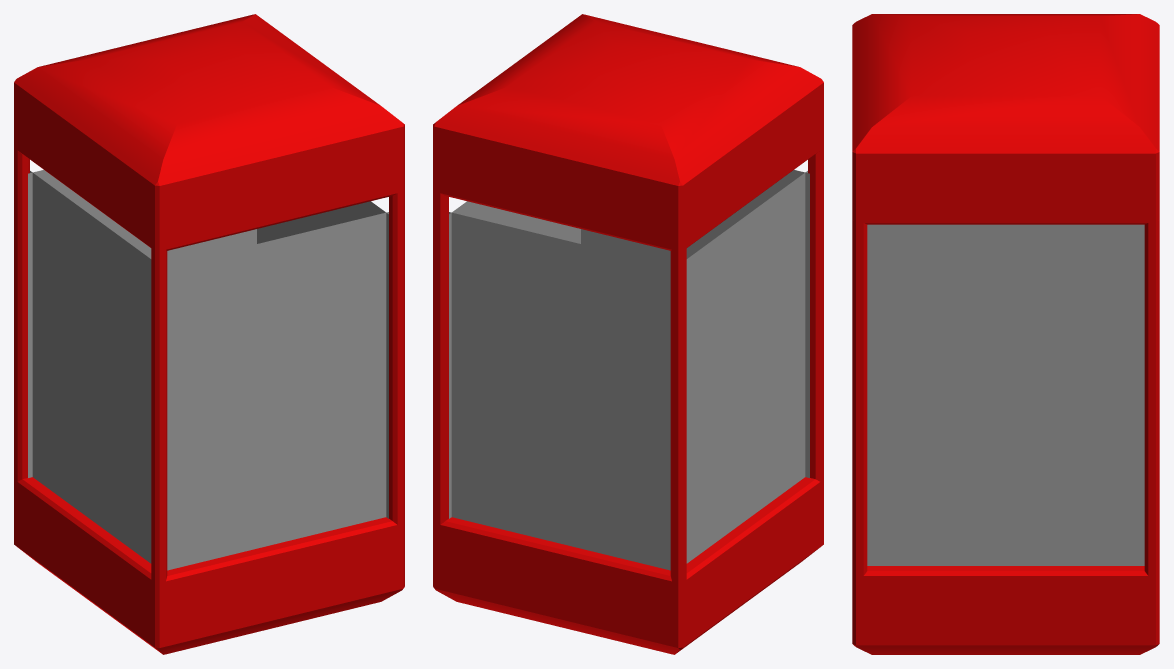
File: CubeSuleRounded.fbx
3 renders of one model, left to right at view 1: azimuth 30°, elevation 25°; view 2: azimuth 150°, elevation 25°; view 3: azimuth 270°, elevation 25°, orthographic. The views are drawn at different scales.
Visible parts, largest first — view 1: Capsule, Invisible_Wall1, Invisible_Wall2, Pillar1, Pillar4, Pillar2, Invisible_Wall3, Invisible_Wall4; view 2: Capsule, Invisible_Wall3, Invisible_Wall2, Pillar2, Pillar3, Pillar1, Invisible_Wall1, Invisible_Wall4; view 3: Capsule, Invisible_Wall4, Pillar3, Pillar4, Invisible_Wall2.
Part boxes in pixels (x1,y1,x2,y2): Capsule: (14,14,404,654); Invisible_Wall1: (167,212,388,570); Invisible_Wall2: (30,171,151,563); Pillar1: (151,247,167,583); Pillar4: (389,189,404,524); Pillar2: (14,146,29,481); Invisible_Wall3: (28,170,256,477); Invisible_Wall4: (257,201,388,518); Capsule: (433,14,823,654); Invisible_Wall3: (449,212,670,570); Invisible_Wall2: (686,171,807,563); Pillar2: (670,247,686,583); Pillar3: (433,189,448,524); Pillar1: (808,147,823,481); Invisible_Wall1: (581,170,809,477); Invisible_Wall4: (449,201,580,518); Capsule: (852,14,1159,654); Invisible_Wall4: (867,241,1144,565); Pillar3: (1144,220,1159,576); Pillar4: (852,220,867,576); Invisible_Wall2: (867,224,1144,241).
Size of the model in its own units: 1.93 by 3.95 by 1.93.
